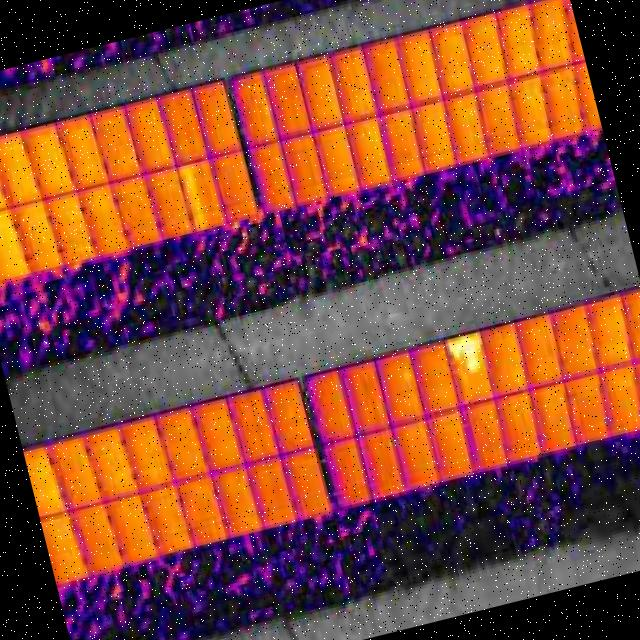Hotspot: (444, 330, 490, 380), (176, 162, 208, 228)
